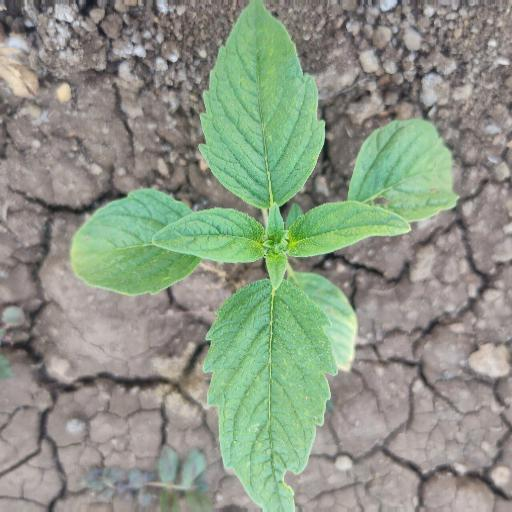crop: (62, 1, 464, 512)
